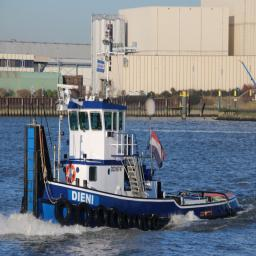tugboat: (19, 78, 246, 238)
